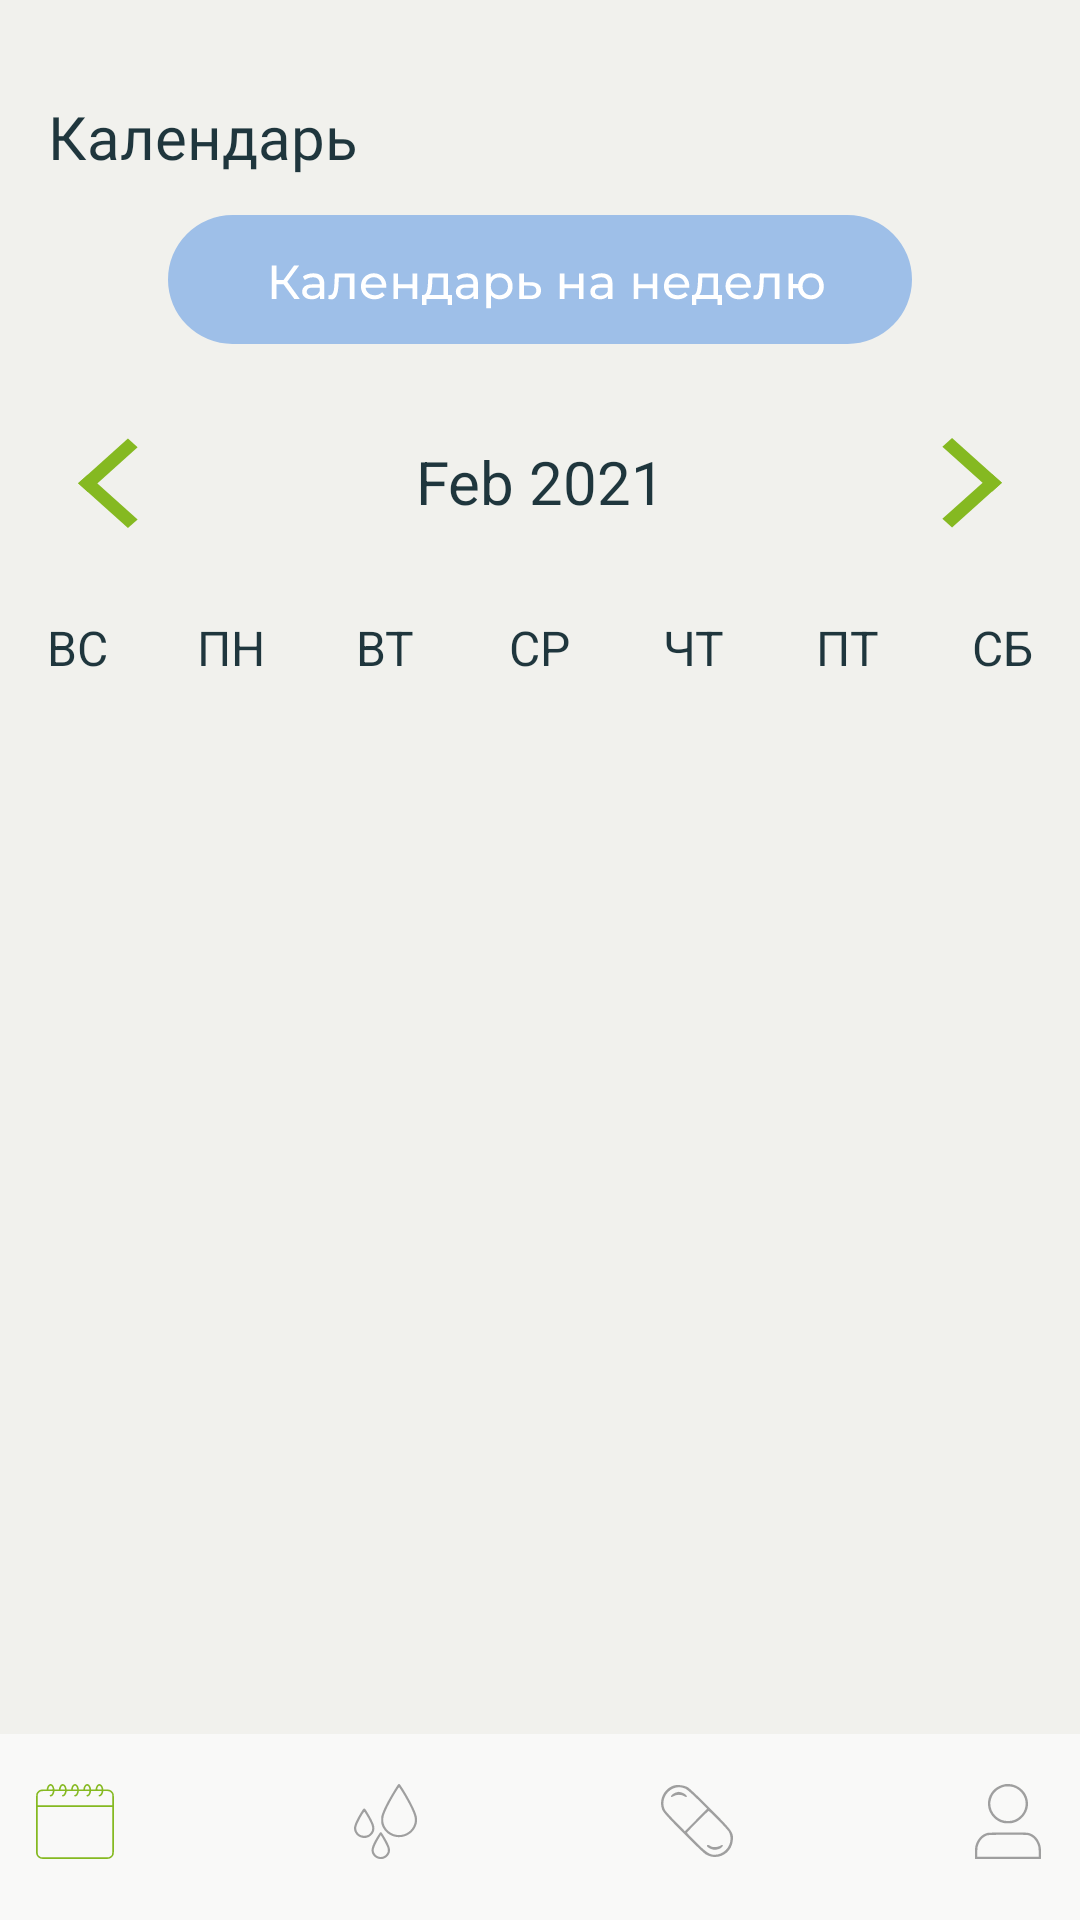

Icon bounding boxes for this 1080w x 1920h phone screenshot, format (x1, y1, x2, y2):
left: (78, 438, 138, 528)
lekgray: (661, 1785, 733, 1857)
right: (942, 438, 1002, 528)
Водный баланс: (354, 1784, 417, 1859)
